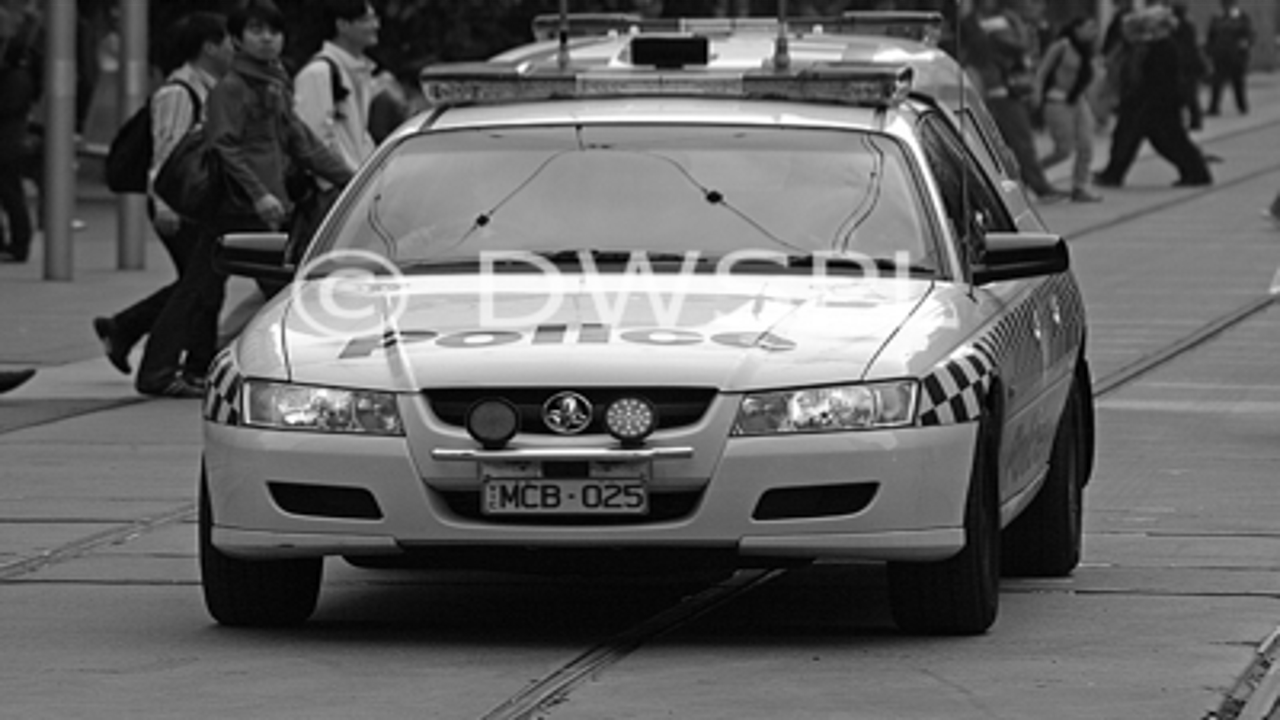license: (474, 472, 654, 519)
